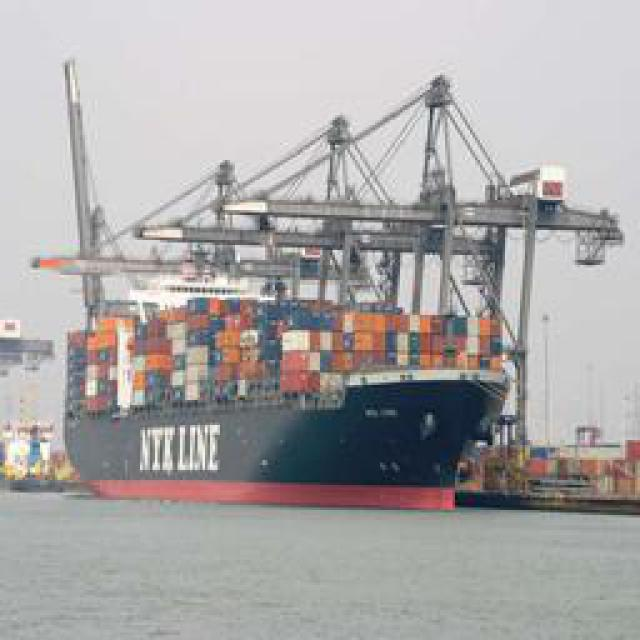Ship: (44, 54, 574, 529)
